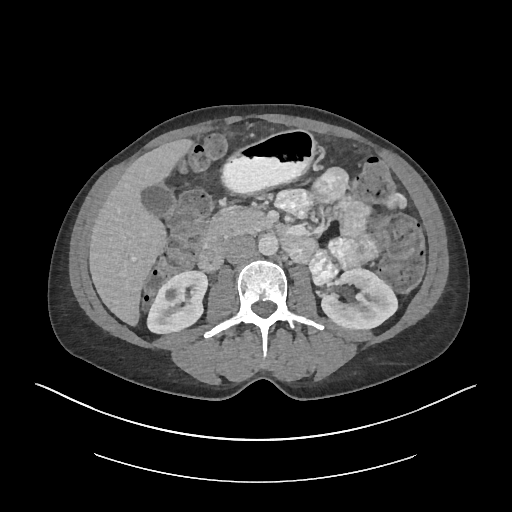Lesion: (162, 284, 183, 308)
